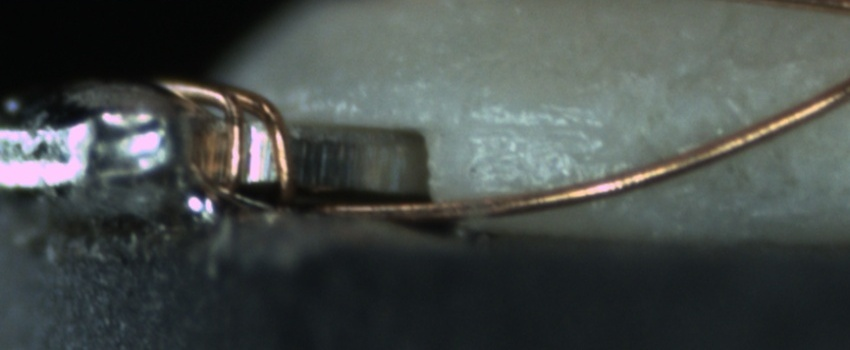DL: (456, 96, 614, 160)
TE: (154, 72, 304, 212)
